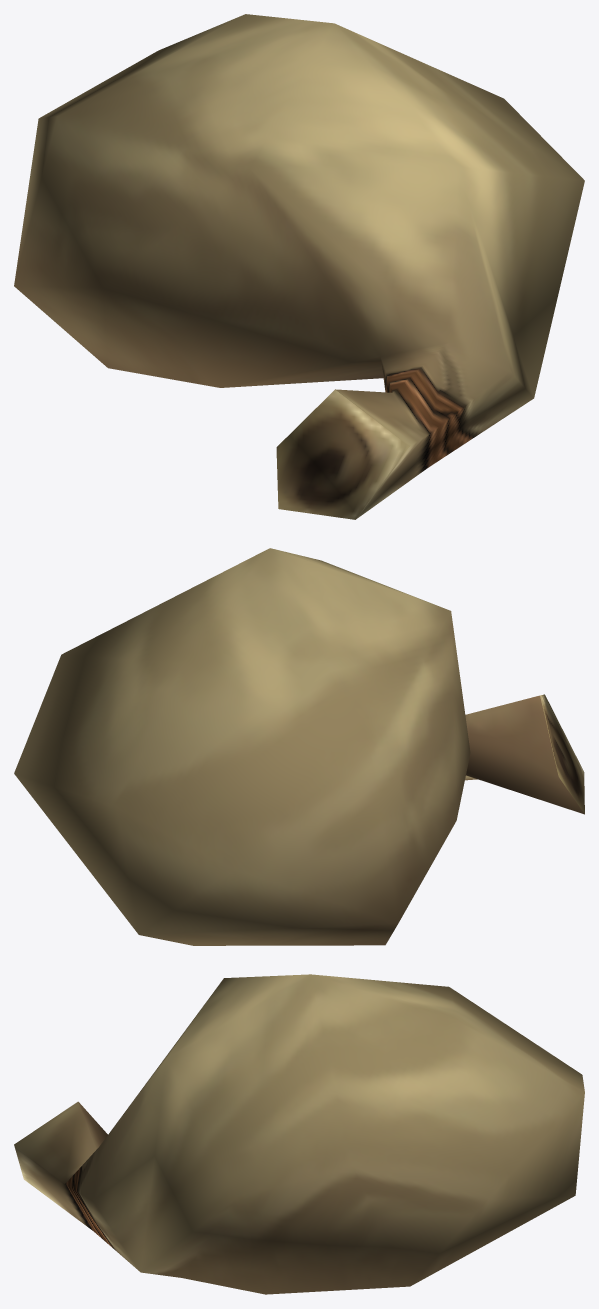
The model's file is DWF_bag.FBX.
3 views of the same model, one above another, from view 1: azimuth 30°, elevation 25°; view 2: azimuth 150°, elevation 25°; view 3: azimuth 270°, elevation 25° (orthographic). The views are drawn at different scales.
Visible parts, largest first — view 1: DWF_Xtra_bag; view 2: DWF_Xtra_bag; view 3: DWF_Xtra_bag.
Boxes of the visible parts, x1,y1,x2,y2 form: DWF_Xtra_bag: [14, 14, 584, 519]; DWF_Xtra_bag: [14, 548, 584, 945]; DWF_Xtra_bag: [14, 974, 584, 1294].
Bounding box in the file's own units: 21.27 × 15.96 × 29.92.
Materials: 1 (1 with a texture image).
